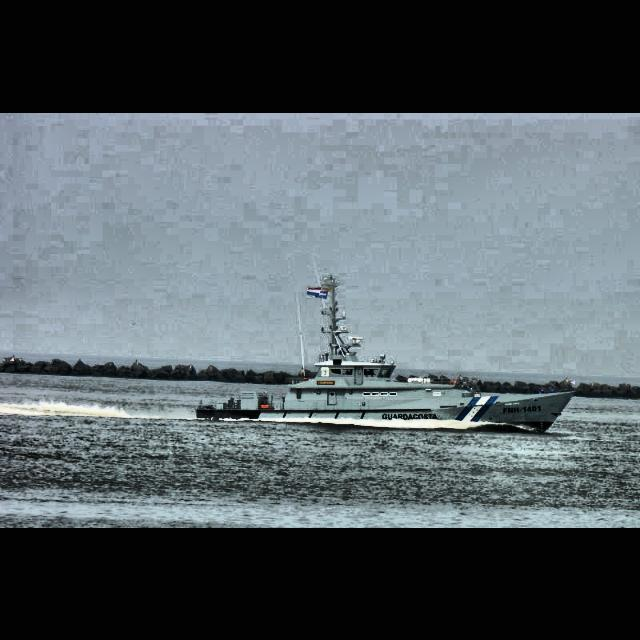patrol_vessel: (195, 271, 579, 435)
